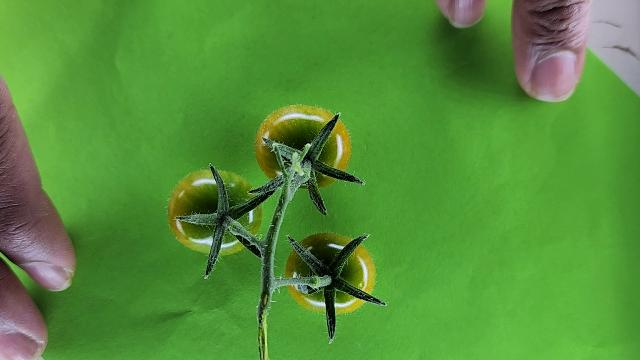Fully Grown: (254, 104, 353, 191), (167, 169, 264, 256), (284, 232, 377, 314)
